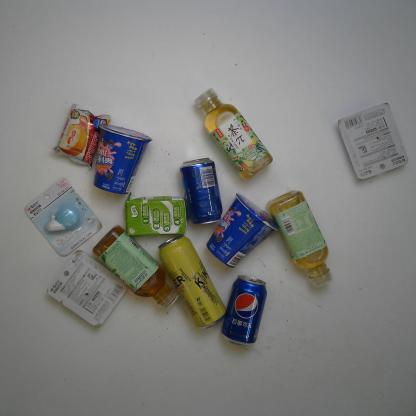Alcohol: (158, 234, 227, 332)
Dessert: (207, 192, 280, 268), (92, 121, 152, 193), (52, 101, 112, 169)
Drink: (94, 226, 180, 310), (195, 89, 272, 180), (266, 191, 333, 287), (221, 274, 268, 348), (180, 158, 223, 226)
Milk: (123, 195, 187, 237)
Stationery: (22, 177, 104, 258), (48, 251, 126, 328), (337, 102, 410, 181)
